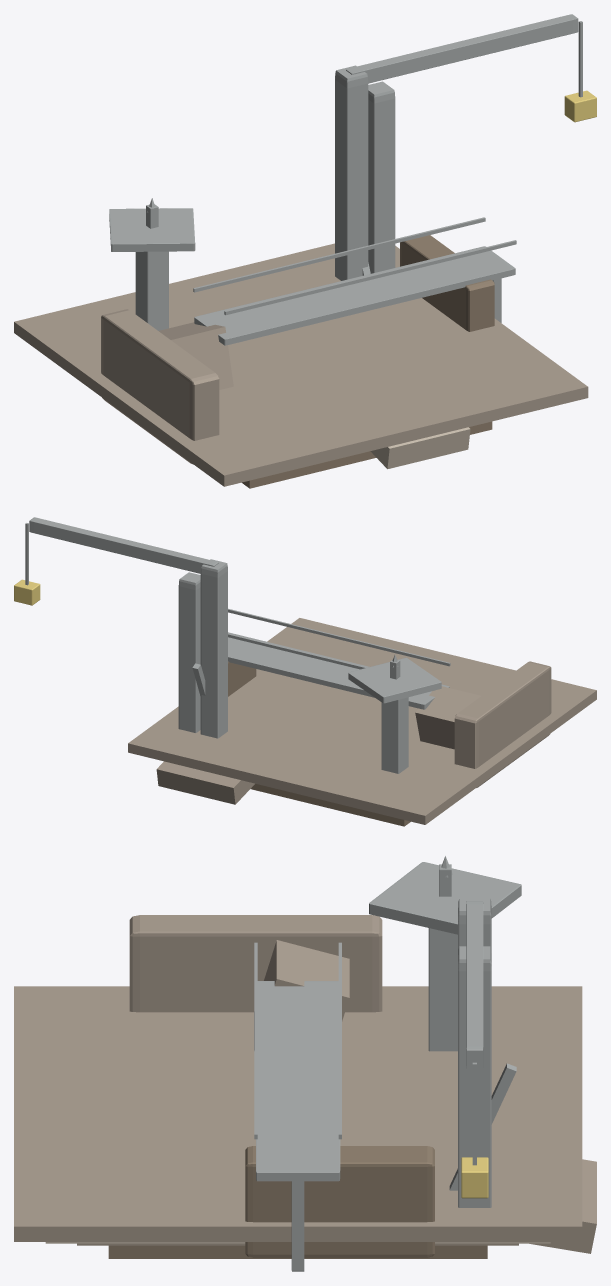
Rendered from quarry.glb.
The picture shows the model from 3 angles, top to bottom: view 1: azimuth 30°, elevation 25°; view 2: azimuth 150°, elevation 25°; view 3: azimuth 270°, elevation 25°; orthographic projection. The views are drawn at different scales.
Parts seen in each view (by area): view 1: Cube.525, Cube.535, Cube.545, Cube.529, Cube.530, Cube.531, Cube.543, Cube.546, Cube.542, Cube.538, Cube.528, Cube.540 (+3 smaller); view 2: Cube.525, Cube.545, Cube.529, Cube.535, Cube.530, Cube.531, Cube.543, Cube.526, Cube.538, Cube.542, Cube.522, Cube.540 (+3 smaller); view 3: Cube.525, Cube.545, Cube.535, Cube.546, Cube.543, Cube.530, Cube.542, Cube.522, Cube.538, Cube.531, Cube.526, Cube.537 (+7 smaller).
Boxes of the visible parts, bbox=[...] form: Cube.525: bbox=[14, 243, 588, 486]; Cube.535: bbox=[194, 246, 515, 345]; Cube.545: bbox=[101, 309, 219, 464]; Cube.529: bbox=[335, 65, 368, 280]; Cube.530: bbox=[368, 81, 395, 273]; Cube.531: bbox=[346, 14, 578, 83]; Cube.543: bbox=[109, 208, 195, 251]; Cube.546: bbox=[400, 235, 494, 331]; Cube.542: bbox=[135, 251, 168, 330]; Cube.538: bbox=[159, 322, 233, 389]; Cube.528: bbox=[370, 427, 470, 469]; Cube.540: bbox=[224, 240, 516, 315]; Cube.525: bbox=[128, 618, 596, 824]; Cube.545: bbox=[454, 661, 551, 787]; Cube.529: bbox=[200, 559, 227, 738]; Cube.535: bbox=[228, 632, 449, 709]; Cube.530: bbox=[178, 572, 200, 732]; Cube.531: bbox=[29, 517, 218, 573]; Cube.543: bbox=[348, 657, 441, 703]; Cube.526: bbox=[156, 761, 254, 804]; Cube.538: bbox=[415, 686, 480, 749]; Cube.542: bbox=[381, 697, 408, 773]; Cube.522: bbox=[251, 783, 410, 826]; Cube.540: bbox=[228, 608, 450, 666]; Cube.525: bbox=[14, 986, 582, 1241]; Cube.545: bbox=[129, 915, 382, 1012]; Cube.535: bbox=[256, 981, 340, 1181]; Cube.546: bbox=[245, 1146, 434, 1257]; Cube.543: bbox=[369, 862, 521, 934]; Cube.530: bbox=[458, 946, 491, 1207]; Cube.542: bbox=[428, 928, 457, 1051]; Cube.522: bbox=[108, 1245, 487, 1258]; Cube.538: bbox=[254, 940, 349, 1050]; Cube.531: bbox=[466, 901, 483, 1068]; Cube.526: bbox=[529, 1159, 596, 1253]; Cube.537: bbox=[291, 1181, 304, 1271].
Bounding box in the file's own units: 19.98 × 9.25 × 13.85.
